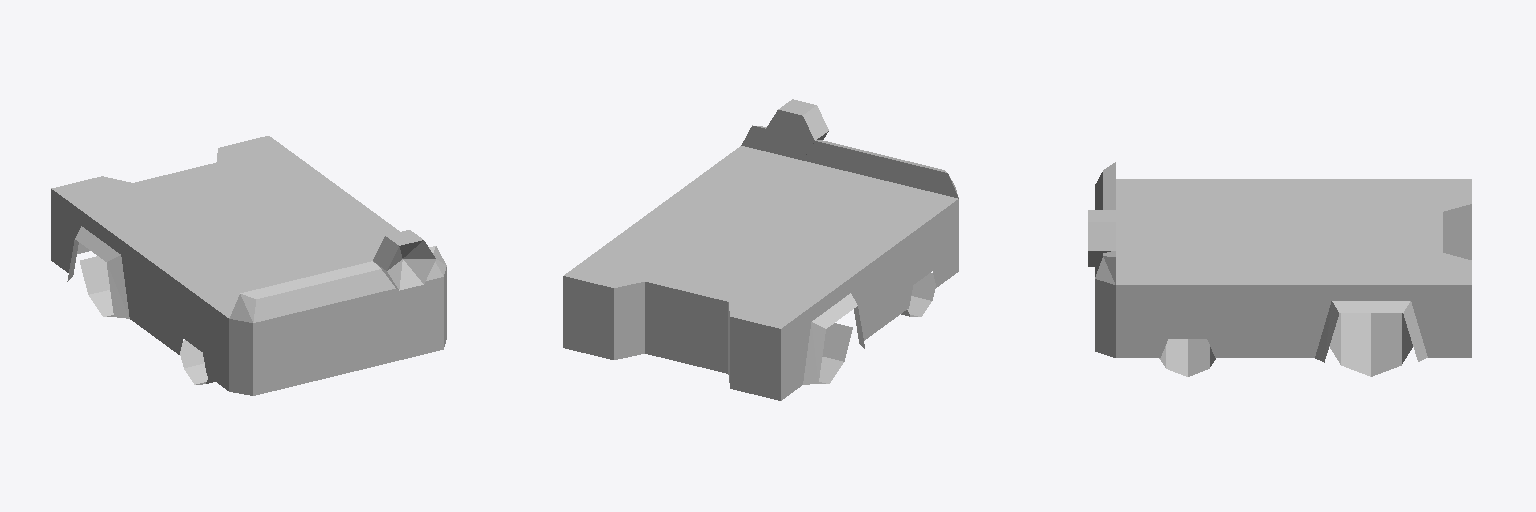
Rendered from AircraftCarrierCart.obj.
3 renders of one model, left to right at view 1: azimuth 30°, elevation 25°; view 2: azimuth 150°, elevation 25°; view 3: azimuth 270°, elevation 25°, orthographic.
Size of the model in its own units: 33 by 18.15 by 45.9.